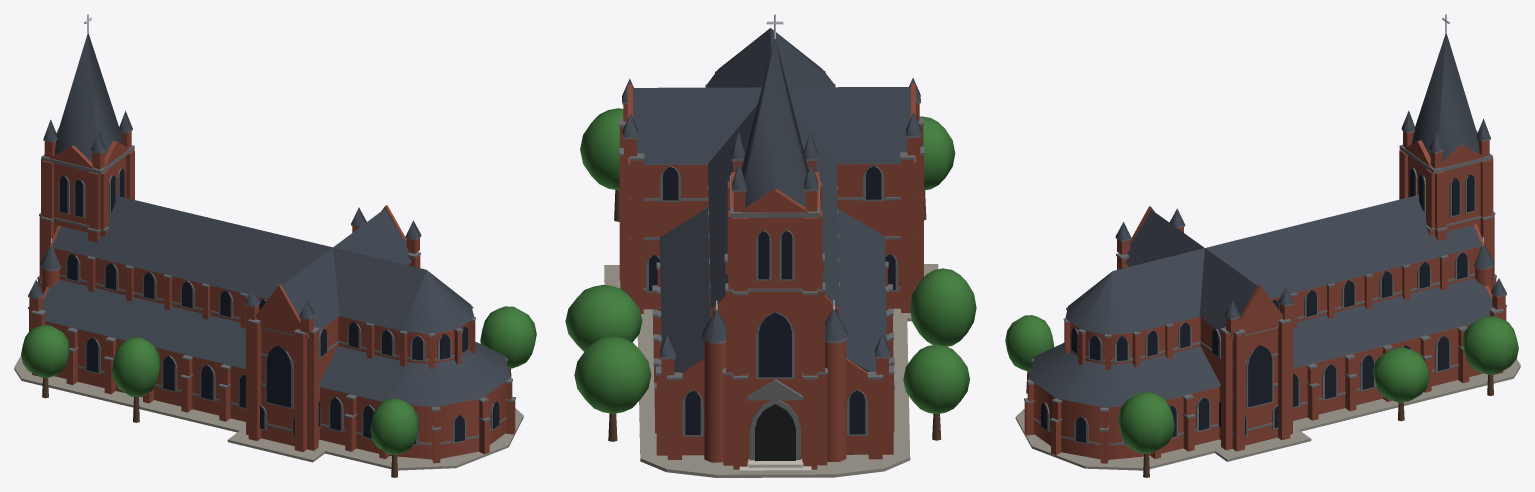
The model's file is myeongdong-cathedral.glb.
The picture shows the model from 3 angles, left to right: view 1: azimuth 30°, elevation 25°; view 2: azimuth 150°, elevation 25°; view 3: azimuth 270°, elevation 25°; orthographic projection. The views are drawn at different scales.
Size of the model in its own units: 61.84 by 49.29 by 69.59.
